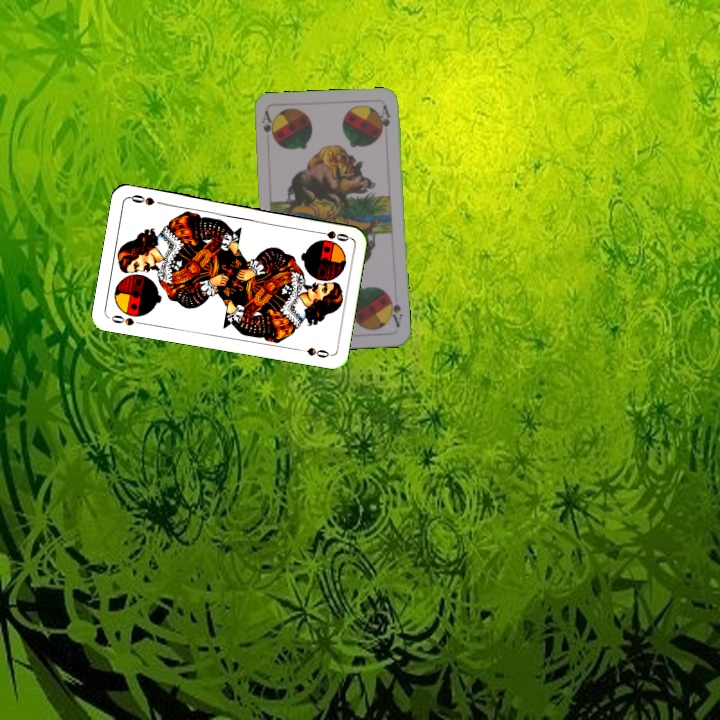SA: (385, 291, 405, 329), (258, 107, 277, 142)
SO: (312, 227, 352, 244), (106, 311, 146, 328)
